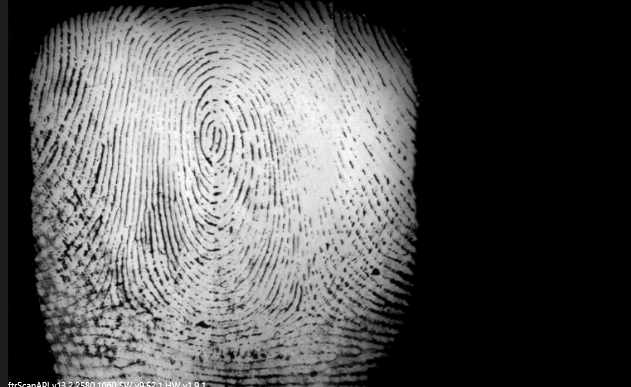nucelo: (206, 124, 226, 156)
verticilo: (292, 295, 313, 322), (97, 287, 117, 312)
